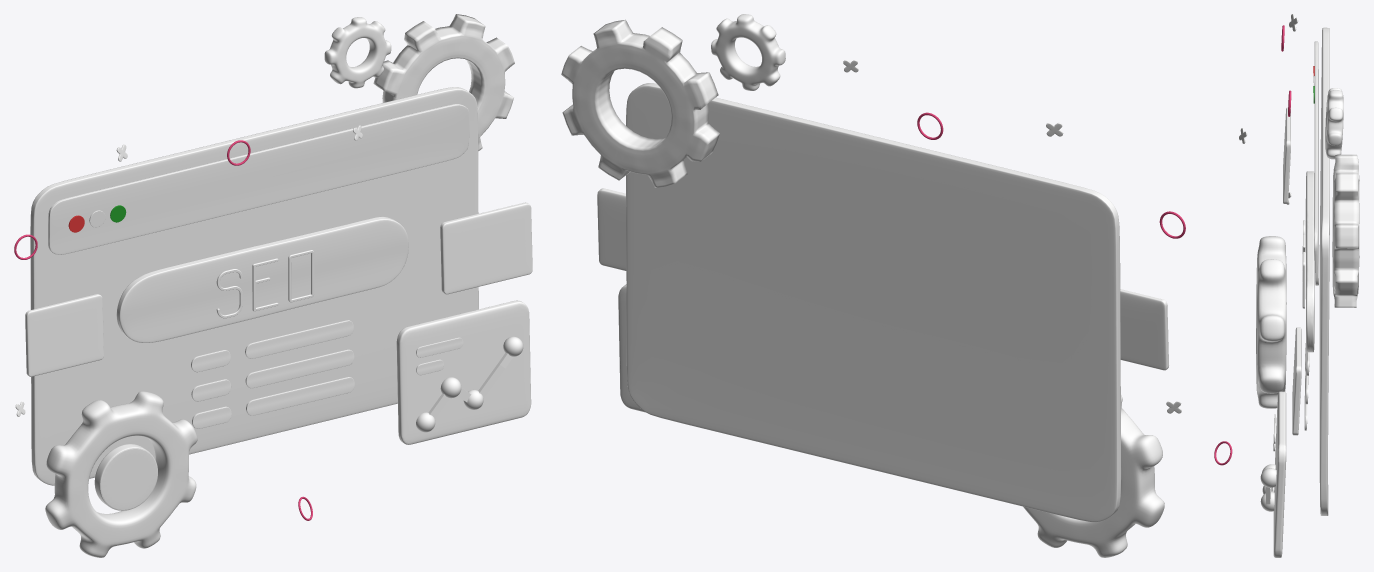
Rendered from technical-seo-3d-animated-icon-943815661310.glb.
3 renders of one model, left to right at view 1: azimuth 30°, elevation 25°; view 2: azimuth 150°, elevation 25°; view 3: azimuth 270°, elevation 25°, orthographic. The views are drawn at different scales.
Parts seen in each view (by area): view 1: Cube.008, Cube.001, SEO Frame, Bottom Gear.001, Chart Line Frame, Gear.001, Cube.019, Cube.020, Bottom Gear, Gear.003, Cube.006, Cube.009 (+5 smaller); view 2: Cube.008, Gear.001, Bottom Gear.001, Cube.020, Gear.003, Cube.019, Chart Line Frame; view 3: Bottom Gear.001, Cube.008, Gear.001, Chart Line Frame, SEO Frame, Gear.003, Cube.001, Cube.019, Cube.020, Chart Line Frame.007.
Part boxes in pixels (left/top/right/bottom): Cube.008: left=30, top=87, right=478, bottom=485; Cube.001: left=48, top=104, right=469, bottom=254; SEO Frame: left=116, top=216, right=408, bottom=342; Bottom Gear.001: left=45, top=391, right=197, bottom=557; Chart Line Frame: left=396, top=300, right=531, bottom=444; Gear.001: left=373, top=14, right=514, bottom=150; Cube.019: left=440, top=202, right=532, bottom=294; Cube.020: left=25, top=294, right=103, bottom=376; Bottom Gear: left=94, top=444, right=157, bottom=510; Gear.003: left=324, top=17, right=391, bottom=88; Cube.006: left=245, top=349, right=354, bottom=388; Cube.009: left=246, top=377, right=354, bottom=415; Cube.008: left=626, top=83, right=1121, bottom=522; Gear.001: left=561, top=19, right=719, bottom=187; Bottom Gear.001: left=1023, top=395, right=1164, bottom=557; Cube.020: left=1120, top=289, right=1168, bottom=370; Gear.003: left=711, top=14, right=785, bottom=90; Cube.019: left=597, top=188, right=626, bottom=270; Chart Line Frame: left=618, top=284, right=645, bottom=412; Bottom Gear.001: left=1256, top=236, right=1286, bottom=408; Cube.008: left=1319, top=27, right=1329, bottom=515; Gear.001: left=1332, top=154, right=1359, bottom=307; Chart Line Frame: left=1273, top=391, right=1286, bottom=557; SEO Frame: left=1305, top=171, right=1314, bottom=352; Gear.003: left=1325, top=88, right=1343, bottom=159; Cube.001: left=1314, top=41, right=1318, bottom=285; Cube.019: left=1292, top=327, right=1301, bottom=435; Cube.020: left=1283, top=107, right=1290, bottom=203; Chart Line Frame.007: left=1260, top=468, right=1276, bottom=487.
Size of the model in its own units: 6.05 by 4.85 by 1.47.
